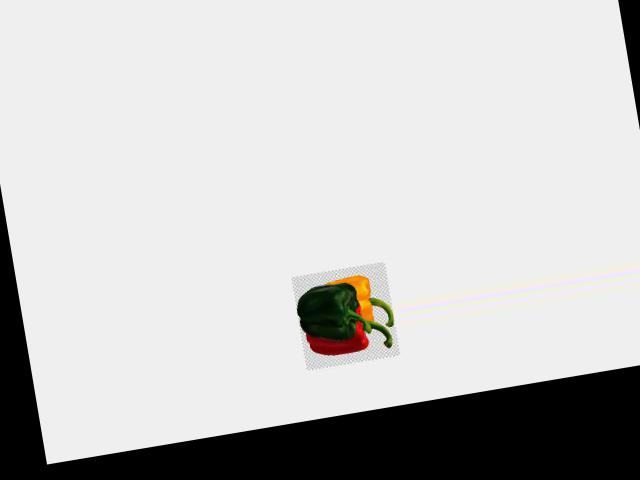bell_pepper: (300, 302, 397, 371)
